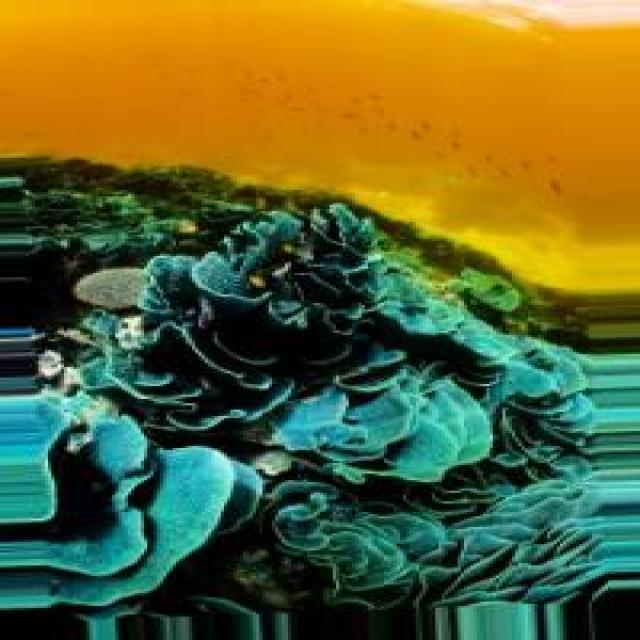Healthy: (1, 163, 609, 626), (283, 413, 587, 609), (1, 394, 260, 613), (382, 227, 599, 468), (81, 261, 292, 447), (193, 216, 375, 374), (276, 364, 494, 487), (75, 263, 142, 317)
